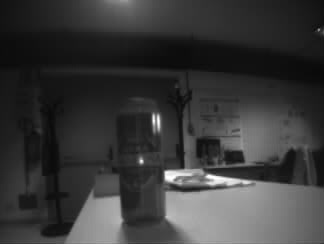Tin can: (118, 96, 166, 221)
